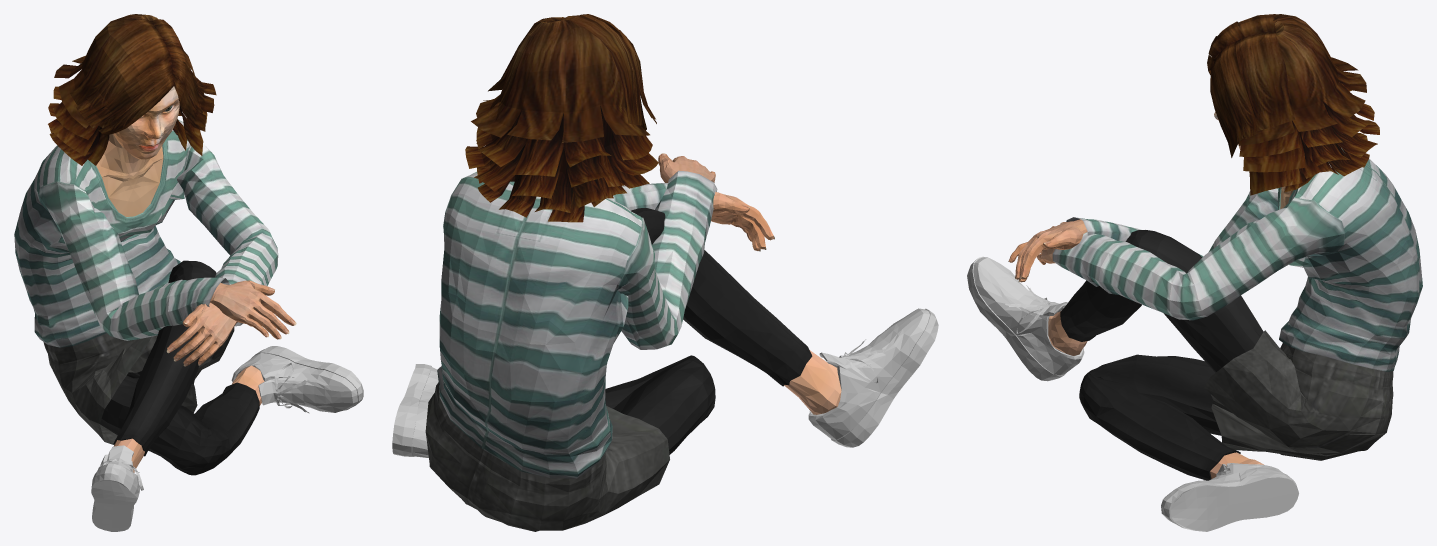
Rendered from girlSittingGround.obj.
3 views of the same model, side by side, from view 1: azimuth 30°, elevation 25°; view 2: azimuth 150°, elevation 25°; view 3: azimuth 270°, elevation 25° (orthographic). The views are drawn at different scales.
Visible parts, largest first — view 1: RL_Upper, RL_Lower, RL_HairMesh, RL_Shoes, RL_Hands, RL_Face; view 2: RL_Upper, RL_Lower, RL_HairMesh, RL_Shoes, RL_Hands; view 3: RL_Lower, RL_Upper, RL_HairMesh, RL_Shoes, RL_Hands.
Boxes of the visible parts, bbox=[...] form: RL_Upper: bbox=[14, 120, 278, 347]; RL_Lower: bbox=[43, 260, 264, 475]; RL_HairMesh: bbox=[48, 14, 216, 165]; RL_Shoes: bbox=[91, 346, 363, 531]; RL_Hands: bbox=[166, 280, 296, 366]; RL_Face: bbox=[113, 86, 179, 159]; RL_Upper: bbox=[437, 170, 717, 478]; RL_Lower: bbox=[425, 208, 841, 531]; RL_HairMesh: bbox=[465, 14, 658, 222]; RL_Shoes: bbox=[392, 308, 938, 457]; RL_Hands: bbox=[658, 153, 774, 251]; RL_Lower: bbox=[1048, 230, 1393, 480]; RL_Upper: bbox=[1052, 148, 1422, 371]; RL_HairMesh: bbox=[1207, 14, 1379, 195]; RL_Shoes: bbox=[967, 256, 1298, 531]; RL_Hands: bbox=[1008, 221, 1083, 282].
Size of the model in its own units: 70.62 by 77.45 by 74.45.
